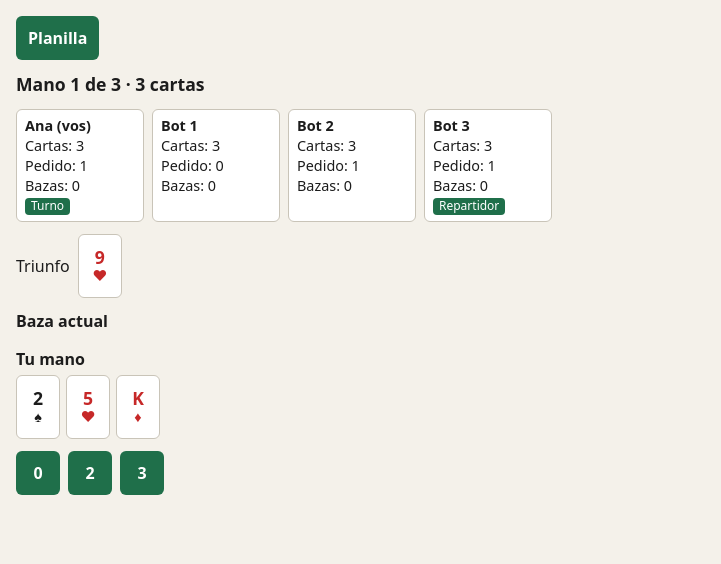
Test: notices (VC-930, FR-919) › disappears when the next action starts
Click the button "2" at [90, 473], box x1=68 y1=451 x2=112 y2=495
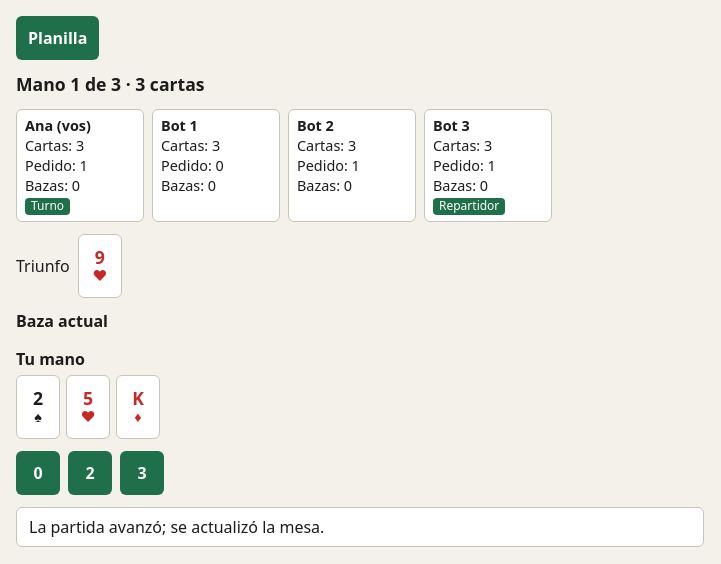
expect the text "La partida avanzó; se actualizó la mesa." is shown: met, box x1=16 y1=507 x2=704 y2=547
Click the button "3" at [142, 473], box x1=120 y1=451 x2=164 y2=495
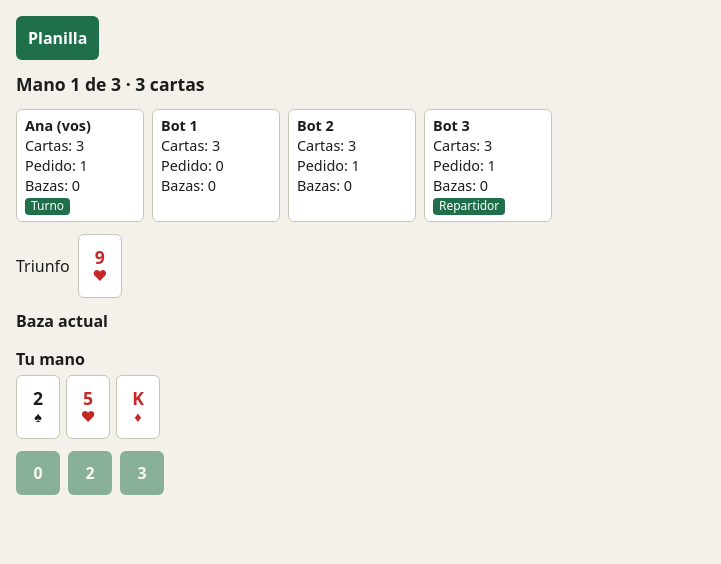
expect the text "La partida avanzó; se actualizó la mesa." is gone: met
